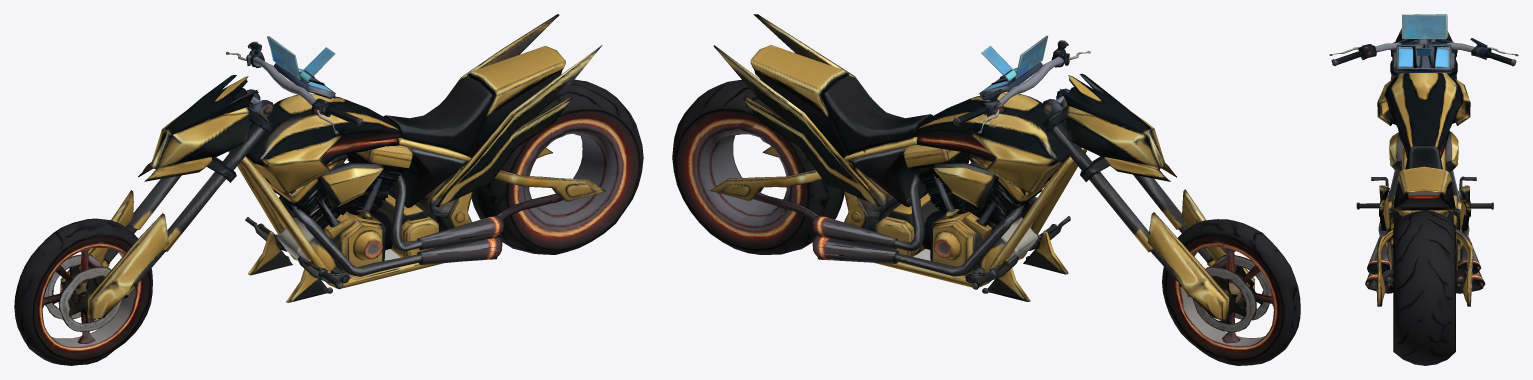
File: runner_b.glb
The picture shows the model from 3 angles, left to right: view 1: azimuth 30°, elevation 25°; view 2: azimuth 150°, elevation 25°; view 3: azimuth 270°, elevation 25°; orthographic projection. The views are drawn at different scales.
Visible parts, largest first — view 1: geometry_0; view 2: geometry_0; view 3: geometry_0.
Boxes of the visible parts, x1,y1,x2,y2 form: geometry_0: (14,14,643,365); geometry_0: (672,14,1300,365); geometry_0: (1329,14,1518,365).
Bounding box in the file's own units: 0.9526 × 0.3984 × 0.2964.
1 material, 1 textured.
